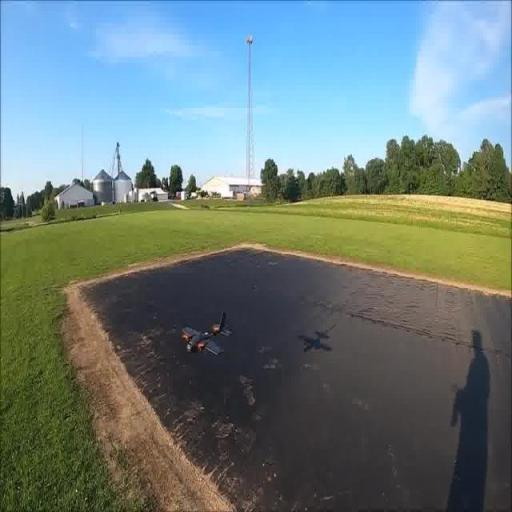uav: (178, 304, 234, 370)
